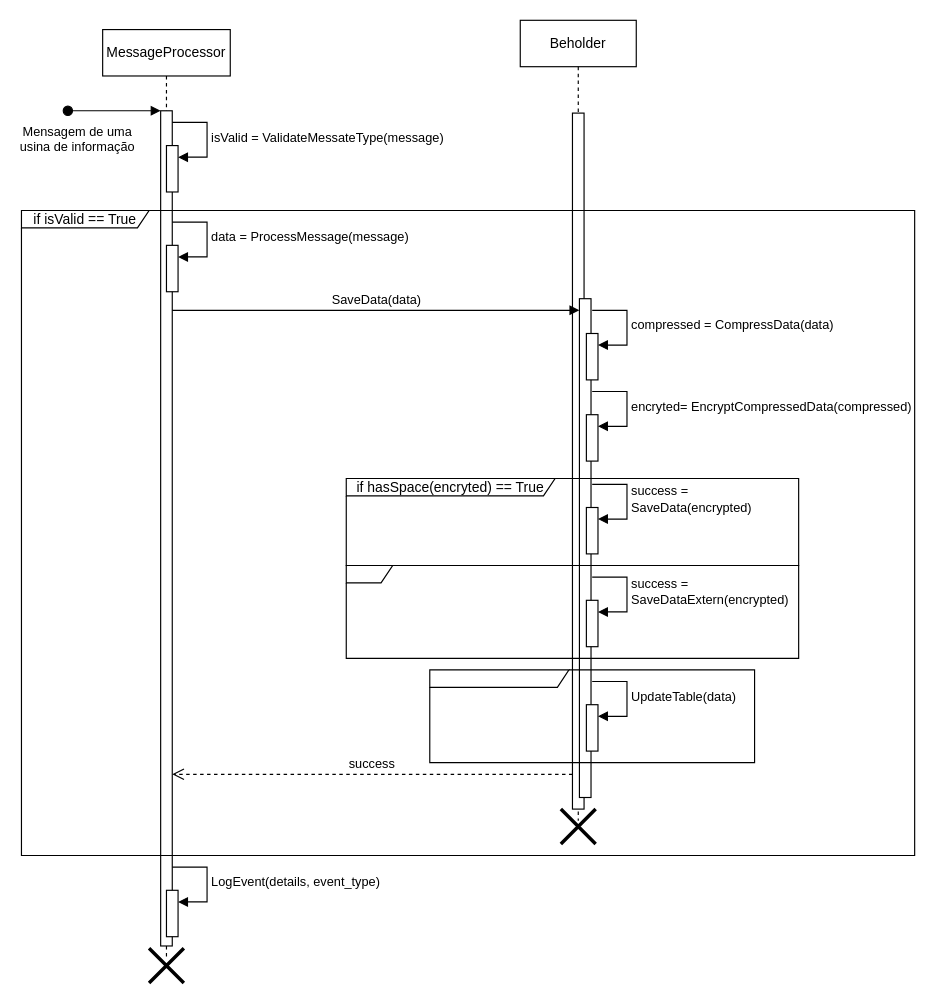
Image size: 935x1005. Some labels were removed from this diagram. The centre of each missing label's shape, as x and y in pixels:
else: (x=572, y=611)
if success == True: (x=592, y=716)
